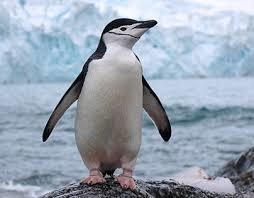chinstrap: (43, 10, 186, 198)
